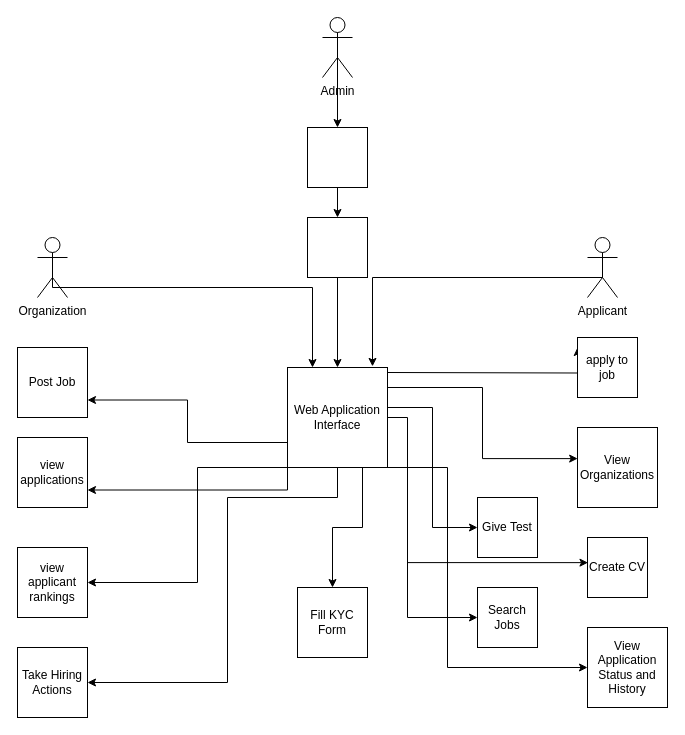
Image size: 685x735. Some labels were removed from this diagram. Each missing label, with the centre of its shape:
"Verify KYC" goes at (337,247).
"Verify Payments" goes at (337,157).
